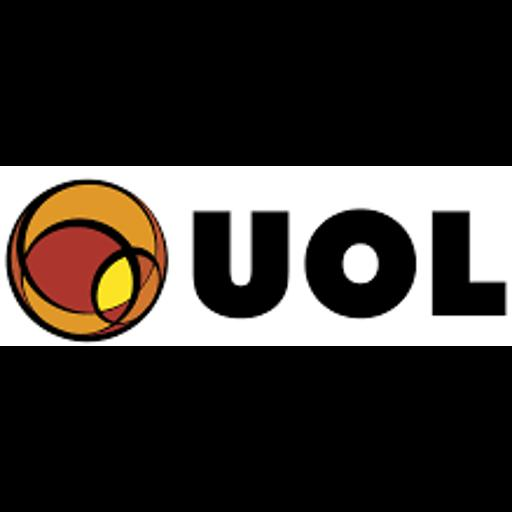Universo Online: (0, 166, 512, 346)
